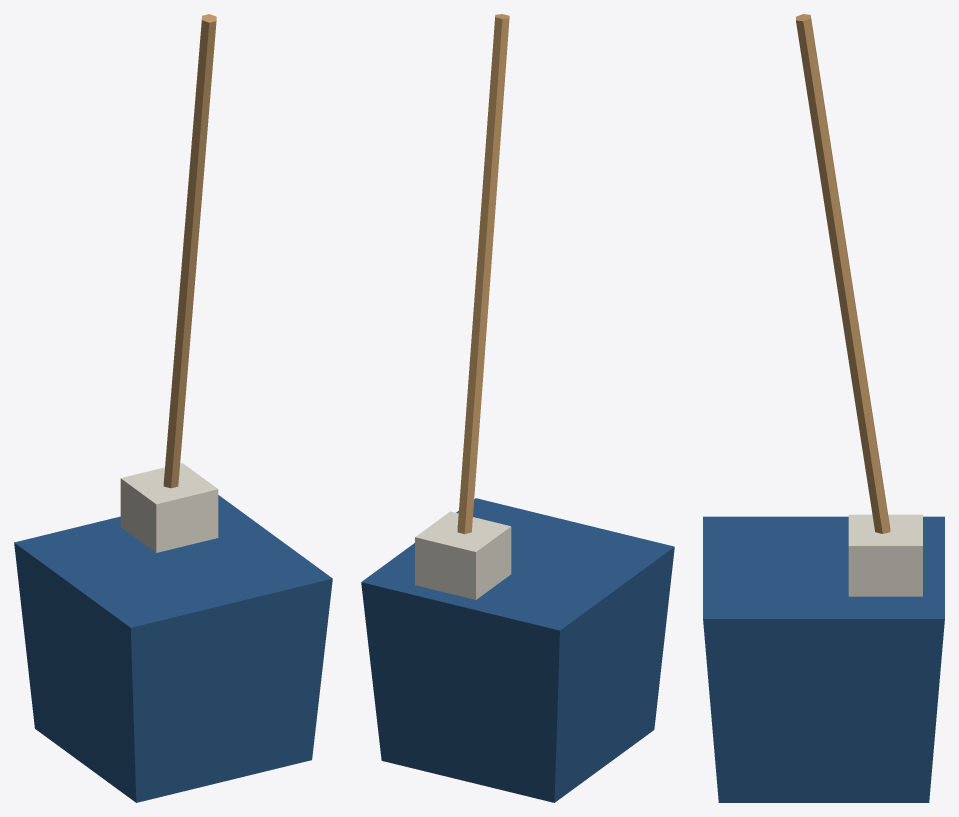
The model's file is GD_MopBucket_01.glb.
3 views of the same model, side by side, from view 1: azimuth 30°, elevation 25°; view 2: azimuth 150°, elevation 25°; view 3: azimuth 270°, elevation 25° (orthographic). The views are drawn at different scales.
Visible parts, largest first — view 1: GD_MopBucket_01; view 2: GD_MopBucket_01; view 3: GD_MopBucket_01.
Boxes of the visible parts, left/top/right/bottom form: GD_MopBucket_01: left=14, top=14, right=332, bottom=802; GD_MopBucket_01: left=361, top=14, right=674, bottom=802; GD_MopBucket_01: left=703, top=14, right=944, bottom=802.
Bounding box in the file's own units: 0.391 × 1.35 × 0.391.
Materials: 1 (1 with a texture image).
